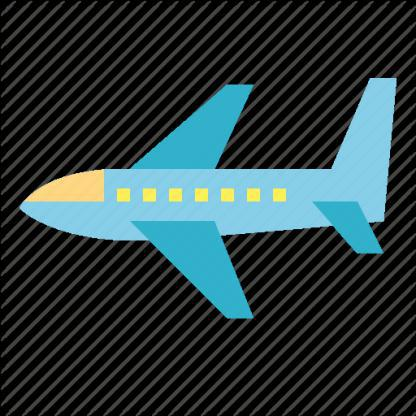CIV_Plane: (15, 74, 399, 322)
